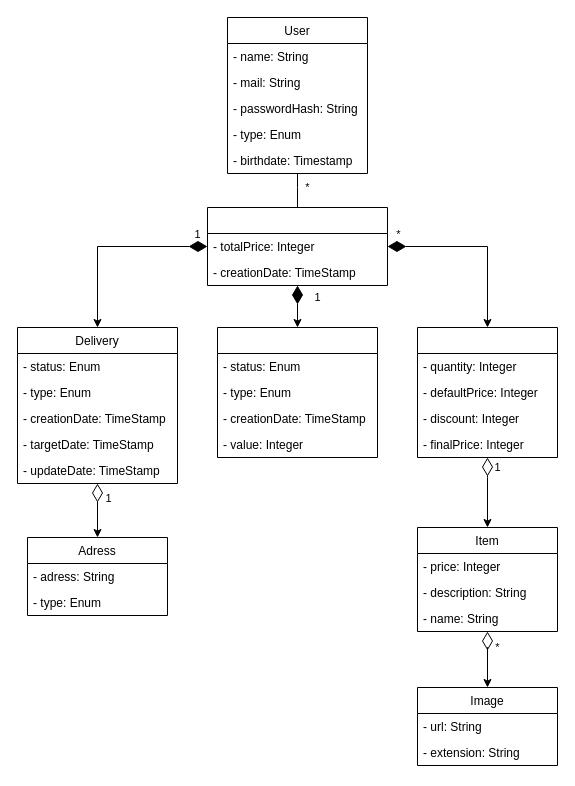
This 575x786 diagram has some shape labels left out. The shapes that lost their labels are listed below. From the top down, each one's box as (x1, y1, x2, y2) in pixels, then its label:
(206, 206, 388, 286): Order
(216, 326, 378, 458): Payment
(416, 326, 558, 458): Ordered Item
